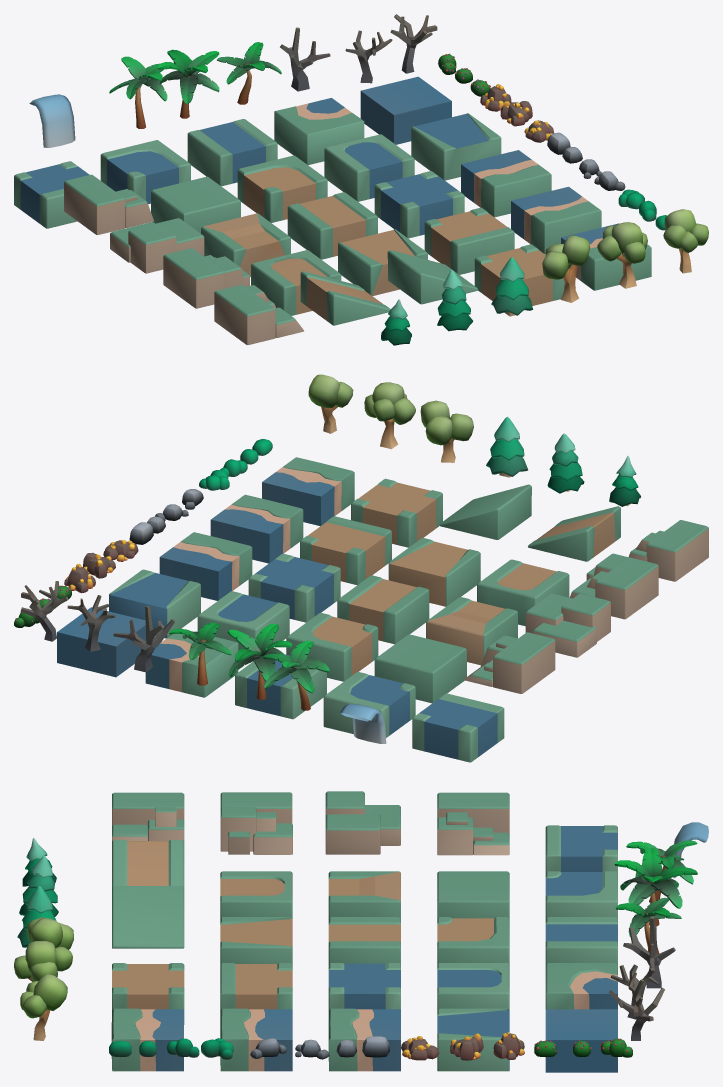
Rendered from Tinymen - Basic Tiles.glb.
3 renders of one model, top to bottom at view 1: azimuth 30°, elevation 25°; view 2: azimuth 150°, elevation 25°; view 3: azimuth 270°, elevation 25°, orthographic. The views are drawn at different scales.
Visible parts, largest first — view 1: GEO_WaterTile, GEO_RoadTurnTile, GEO_RiverEndTile, GEO_RiverQuadTile, GEO_RoadStraightTile, GEO_CoastTurnTile, GEO_RiverStraightTile, GEO_RiverTileConvertFlat, GEO_CoastTile_A, GEO_RoadTriadTile, GEO_CoastTile_C, GEO_RiverTurnTile (+28 smaller); view 2: GEO_RiverTriadTile, GEO_CoastTile_A, GEO_GroundTile, GEO_CoastTile_C, GEO_RiverQuadTile, GEO_CoastTile_B, GEO_RoadStraightTile, GEO_RoadTileConvertFlat, GEO_RoadTriadTile, GEO_RoadQuadTile, GEO_CliffCornerTile, GEO_RoadTurnTile (+28 smaller); view 3: GEO_CliffTile_C, GEO_RampTile, GEO_CliffTile_B, GEO_CliffCornerTile, GEO_WaterTile, GEO_CoastTile_C, GEO_CoastTile_B, GEO_CoastTile_A, GEO_RiverTileConvertFlat, GEO_CliffTile_A, GEO_GroundTile, GEO_RiverQuadTile (+35 smaller).
Boxes of the visible parts, <box> form: GEO_WaterTile: <box>360,76,451,144</box>; GEO_RoadTurnTile: <box>237,155,327,222</box>; GEO_RiverEndTile: <box>324,134,414,201</box>; GEO_RiverQuadTile: <box>374,171,464,238</box>; GEO_RoadStraightTile: <box>287,192,377,259</box>; GEO_CoastTurnTile: <box>274,98,364,165</box>; GEO_RiverStraightTile: <box>187,119,277,186</box>; GEO_RiverTileConvertFlat: <box>411,113,501,180</box>; GEO_CoastTile_A: <box>461,150,551,217</box>; GEO_RoadTriadTile: <box>424,207,514,274</box>; GEO_CoastTile_C: <box>511,186,601,253</box>; GEO_RiverTurnTile: <box>100,140,190,204</box>; GEO_RiverTriadTile: <box>412,693,504,762</box>; GEO_CoastTile_A: <box>159,532,252,600</box>; GEO_GroundTile: <box>374,634,466,703</box>; GEO_CoastTile_C: <box>210,494,303,563</box>; GEO_RiverQuadTile: <box>248,553,340,622</box>; GEO_CoastTile_B: <box>262,457,354,526</box>; GEO_RoadStraightTile: <box>337,575,429,644</box>; GEO_RoadTileConvertFlat: <box>388,538,480,606</box>; GEO_RoadTriadTile: <box>300,516,391,585</box>; GEO_RoadQuadTile: <box>351,478,442,547</box>; GEO_CliffCornerTile: <box>525,593,610,657</box>; GEO_RoadTurnTile: <box>286,612,378,681</box>; GEO_CliffTile_C: <box>437,792,509,855</box>; GEO_RampTile: <box>112,886,184,948</box>; GEO_CliffTile_B: <box>220,792,292,854</box>; GEO_CliffCornerTile: <box>325,791,400,854</box>; GEO_WaterTile: <box>545,1009,617,1072</box>; GEO_CoastTile_C: <box>220,1008,292,1071</box>; GEO_CoastTile_B: <box>111,1008,183,1071</box>; GEO_CoastTile_A: <box>328,1008,400,1071</box>; GEO_RiverTileConvertFlat: <box>437,1008,509,1071</box>; GEO_CliffTile_A: <box>112,792,184,841</box>; GEO_GroundTile: <box>437,871,509,918</box>; GEO_RiverQuadTile: <box>328,963,400,1019</box>.
Size of the model in its own units: 31.27 by 6.11 by 38.45.
Materials: 1 (1 with a texture image).
